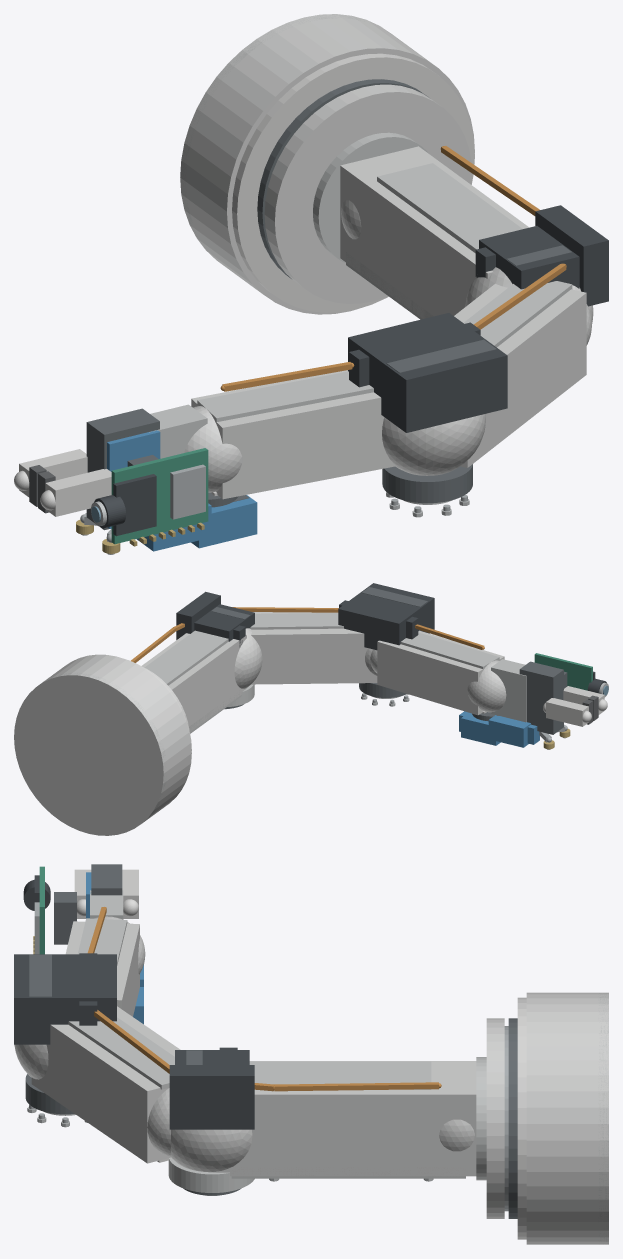
File: robotic_arm_reference_v5.glb
The picture shows the model from 3 angles, top to bottom: view 1: azimuth 30°, elevation 25°; view 2: azimuth 150°, elevation 25°; view 3: azimuth 270°, elevation 25°; orthographic projection. The views are drawn at different scales.
Visible parts, largest first — view 1: Base_lower_casing, Base_rotating_disc, Upright_column_core, Forearm_outer_shell, 8225MG_elbow_case, Base_upper_lid, Upper_arm_outer_shell, Column_rear_cover, Elbow_round_housing, Forearm_rear_panel, Column_foot, Shoulder_motor_cover (+22 smaller); view 2: Base_lower_casing, Upper_arm_outer_shell, Forearm_outer_shell, Upright_column_core, 8225MG_elbow_case, Gripper_palm, Column_rear_cover, Gripper_mount_block, Forearm_rear_panel, Upper_arm_rear_panel, Wrist_housing, MG90S_shoulder_case (+12 smaller); view 3: Base_lower_casing, Upright_column_core, Upper_arm_outer_shell, 8225MG_elbow_case, Shoulder_motor_cover, Column_rear_cover, Base_rotating_disc, Shoulder_molded_housing, Upper_arm_rear_panel, Base_upper_lid, Forearm_outer_shell, Base_turntable_shadow (+19 smaller).
Part boxes in pixels (x1,y1,x2,y2): Base_lower_casing: (180,14,474,314); Base_rotating_disc: (264,84,472,303); Upright_column_core: (340,146,529,318); Forearm_outer_shell: (191,370,396,499); 8225MG_elbow_case: (348,313,507,432); Base_upper_lid: (232,53,474,312); Upper_arm_outer_shell: (454,283,586,467); Column_rear_cover: (377,163,522,253); Elbow_round_housing: (382,414,485,475); Forearm_rear_panel: (197,371,373,423); Column_foot: (313,132,428,262); Shoulder_motor_cover: (535,205,608,306); Base_lower_casing: (14,654,191,835); Upper_arm_outer_shell: (251,612,377,684); Forearm_outer_shell: (377,630,504,715); Upright_column_core: (141,633,246,731); 8225MG_elbow_case: (338,583,434,650); Gripper_palm: (519,661,563,734); Column_rear_cover: (144,630,228,685); Gripper_mount_block: (491,659,526,722); Forearm_rear_panel: (400,632,499,668); Upper_arm_rear_panel: (250,613,343,629); Wrist_housing: (467,660,506,712); MG90S_shoulder_case: (194,604,254,641); Base_lower_casing: (526,992,608,1244); Upright_column_core: (216,1061,476,1176); Upper_arm_outer_shell: (31,1006,180,1163); 8225MG_elbow_case: (14,954,116,1044); Shoulder_motor_cover: (169,1065,254,1129); Column_rear_cover: (249,1061,431,1089); Base_rotating_disc: (486,1018,504,1218); Shoulder_molded_housing: (170,1129,252,1172); Upper_arm_rear_panel: (68,1017,174,1089); Base_upper_lid: (517,997,526,1239); Forearm_outer_shell: (65,921,139,1016); Base_turntable_shadow: (508,1018,517,1218).
Size of the model in its own units: 270 by 98 by 231.
